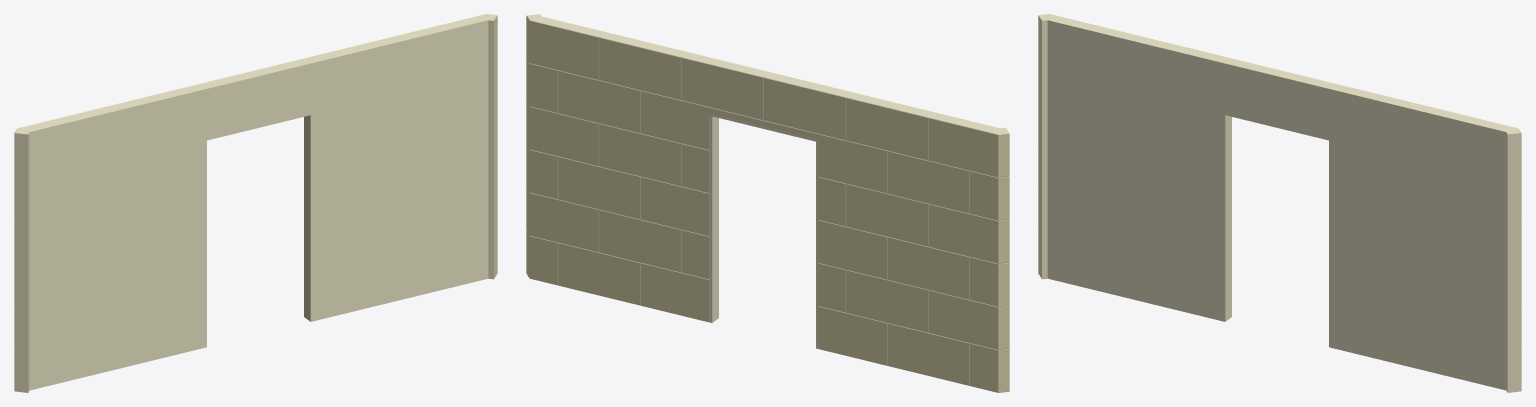
File: ExteriorWall_45Door_Capped_ExportPrep.gltf
The picture shows the model from 3 angles, left to right: view 1: azimuth 30°, elevation 25°; view 2: azimuth 150°, elevation 25°; view 3: azimuth 330°, elevation 25°; orthographic projection.
Visible parts, largest first — view 1: ExteriorWall_45Door_Capped; view 2: ExteriorWall_45Door_Capped; view 3: ExteriorWall_45Door_Capped.
Part boxes in pixels (x1=…): ExteriorWall_45Door_Capped: x1=14, y1=14, x2=497, y2=392; ExteriorWall_45Door_Capped: x1=526, y1=14, x2=1009, y2=392; ExteriorWall_45Door_Capped: x1=1038, y1=14, x2=1521, y2=392.
Bounding box in the file's own units: 5.87 × 3 × 0.1939.
